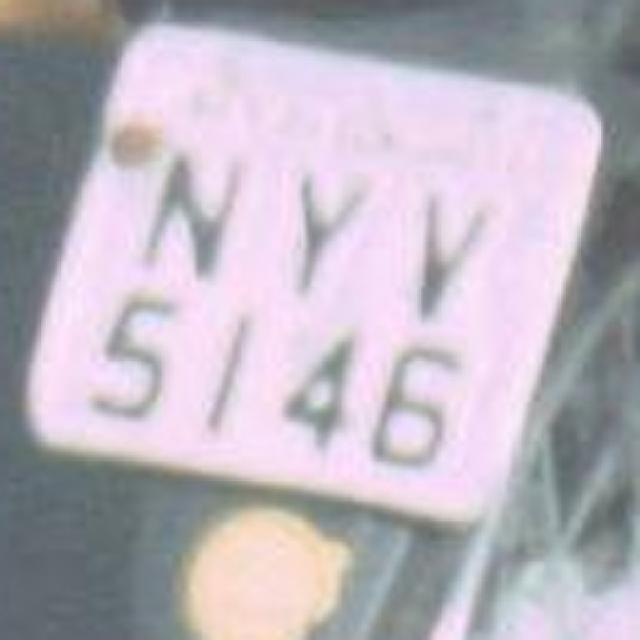1: (188, 292, 272, 436)
4: (260, 308, 368, 472)
5: (72, 268, 192, 424)
8: (256, 309, 384, 476)
N: (371, 164, 524, 331), (116, 132, 264, 296)
Y: (372, 168, 516, 328), (256, 144, 392, 308)
